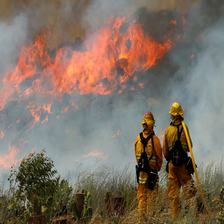fire: (4, 11, 180, 96), (2, 101, 54, 169)
